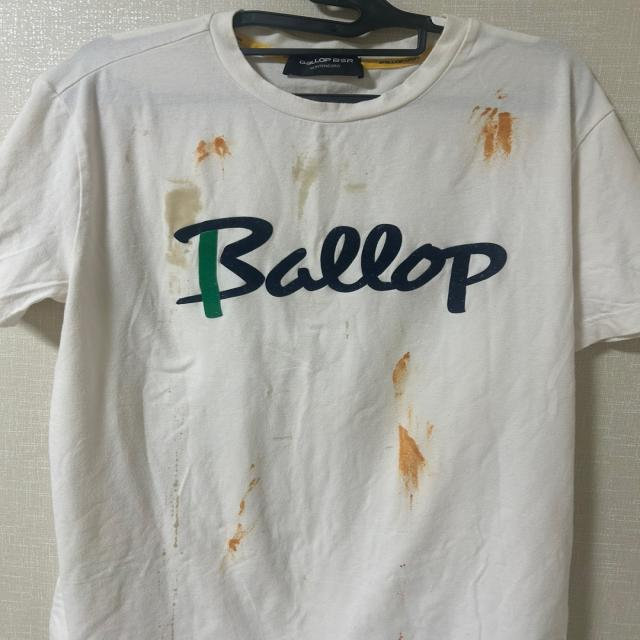stain: (160, 182, 199, 271), (472, 104, 524, 160), (397, 422, 431, 504), (280, 155, 326, 213), (169, 452, 191, 553), (163, 586, 190, 640), (225, 508, 255, 553), (192, 135, 232, 166), (242, 468, 264, 514), (394, 355, 414, 400), (342, 174, 373, 198), (496, 76, 519, 108), (408, 404, 422, 429), (393, 564, 415, 574), (394, 628, 406, 640)
